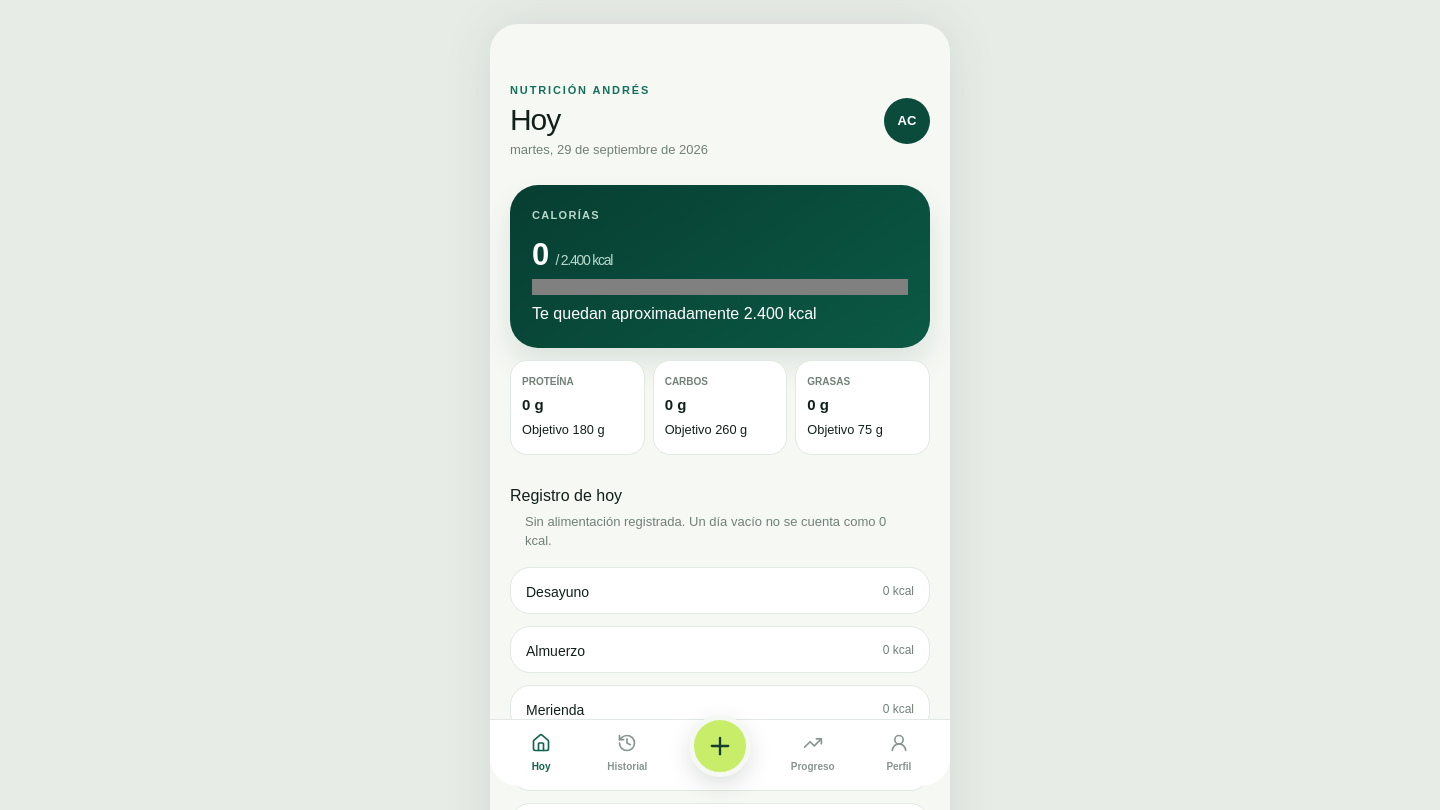
it: NutritionApp › keeps photo analysis disabled until a file is selected and explains disposal
The width and height of the screenshot is (1440, 810).
What coordinates should you click on to do the following:
click the button named "Agregar registro"
I would click on:
 (720, 746)
Its box is [689,715,751,777].
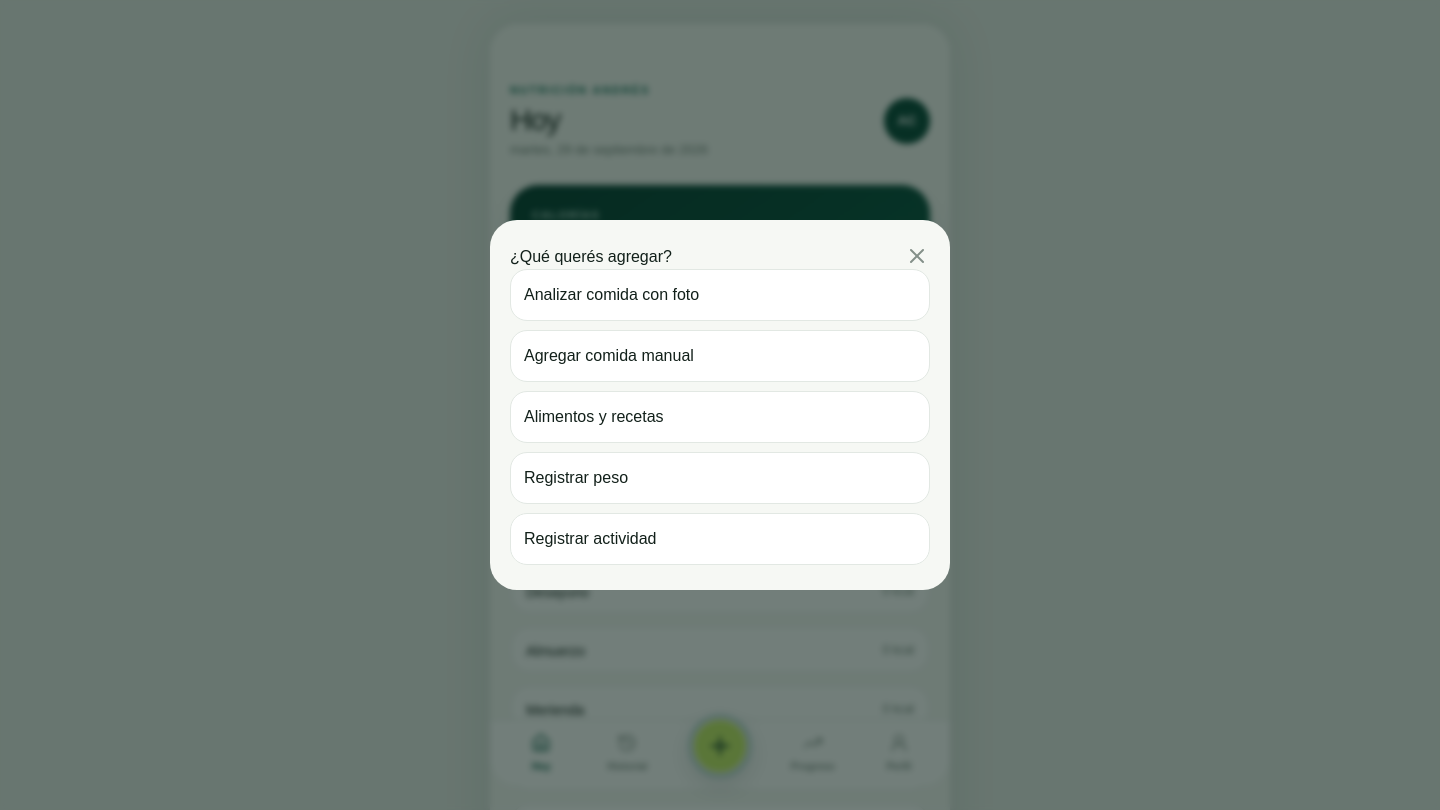
What coordinates should you click on to do the following:
click the button "Analizar comida con foto"
I would click on:
 (612, 294)
Its box is [510,269,930,321].
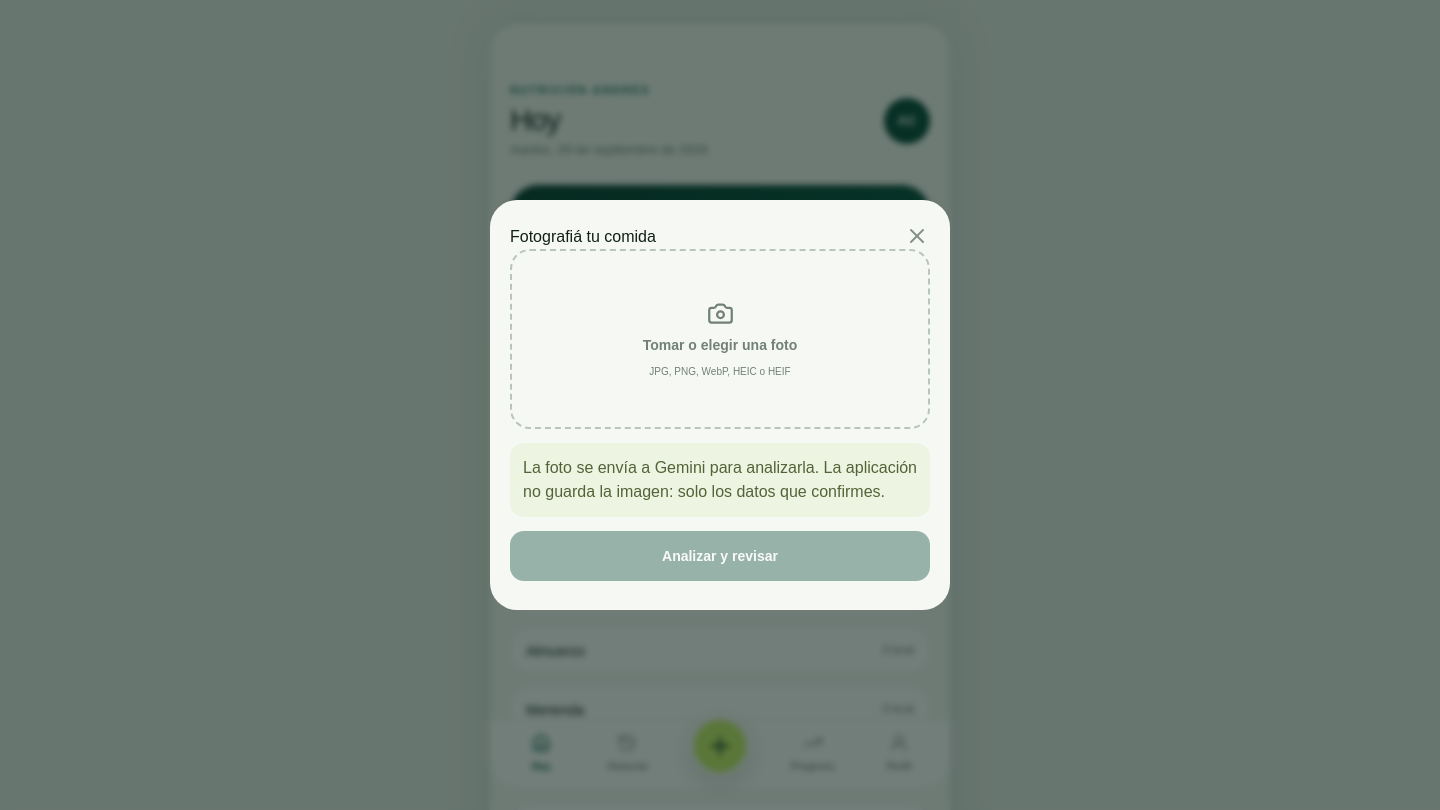
Expected: the button "Analizar y revisar" is disabled, [510,531,930,581]
Expected: the text "solo los datos que confirmes" is shown, [523,459,917,500]
